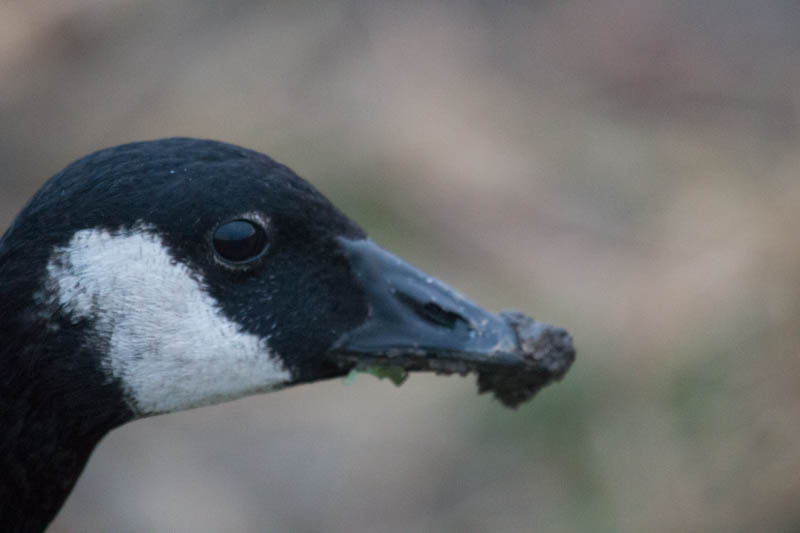goose-head: (1, 139, 577, 434)
